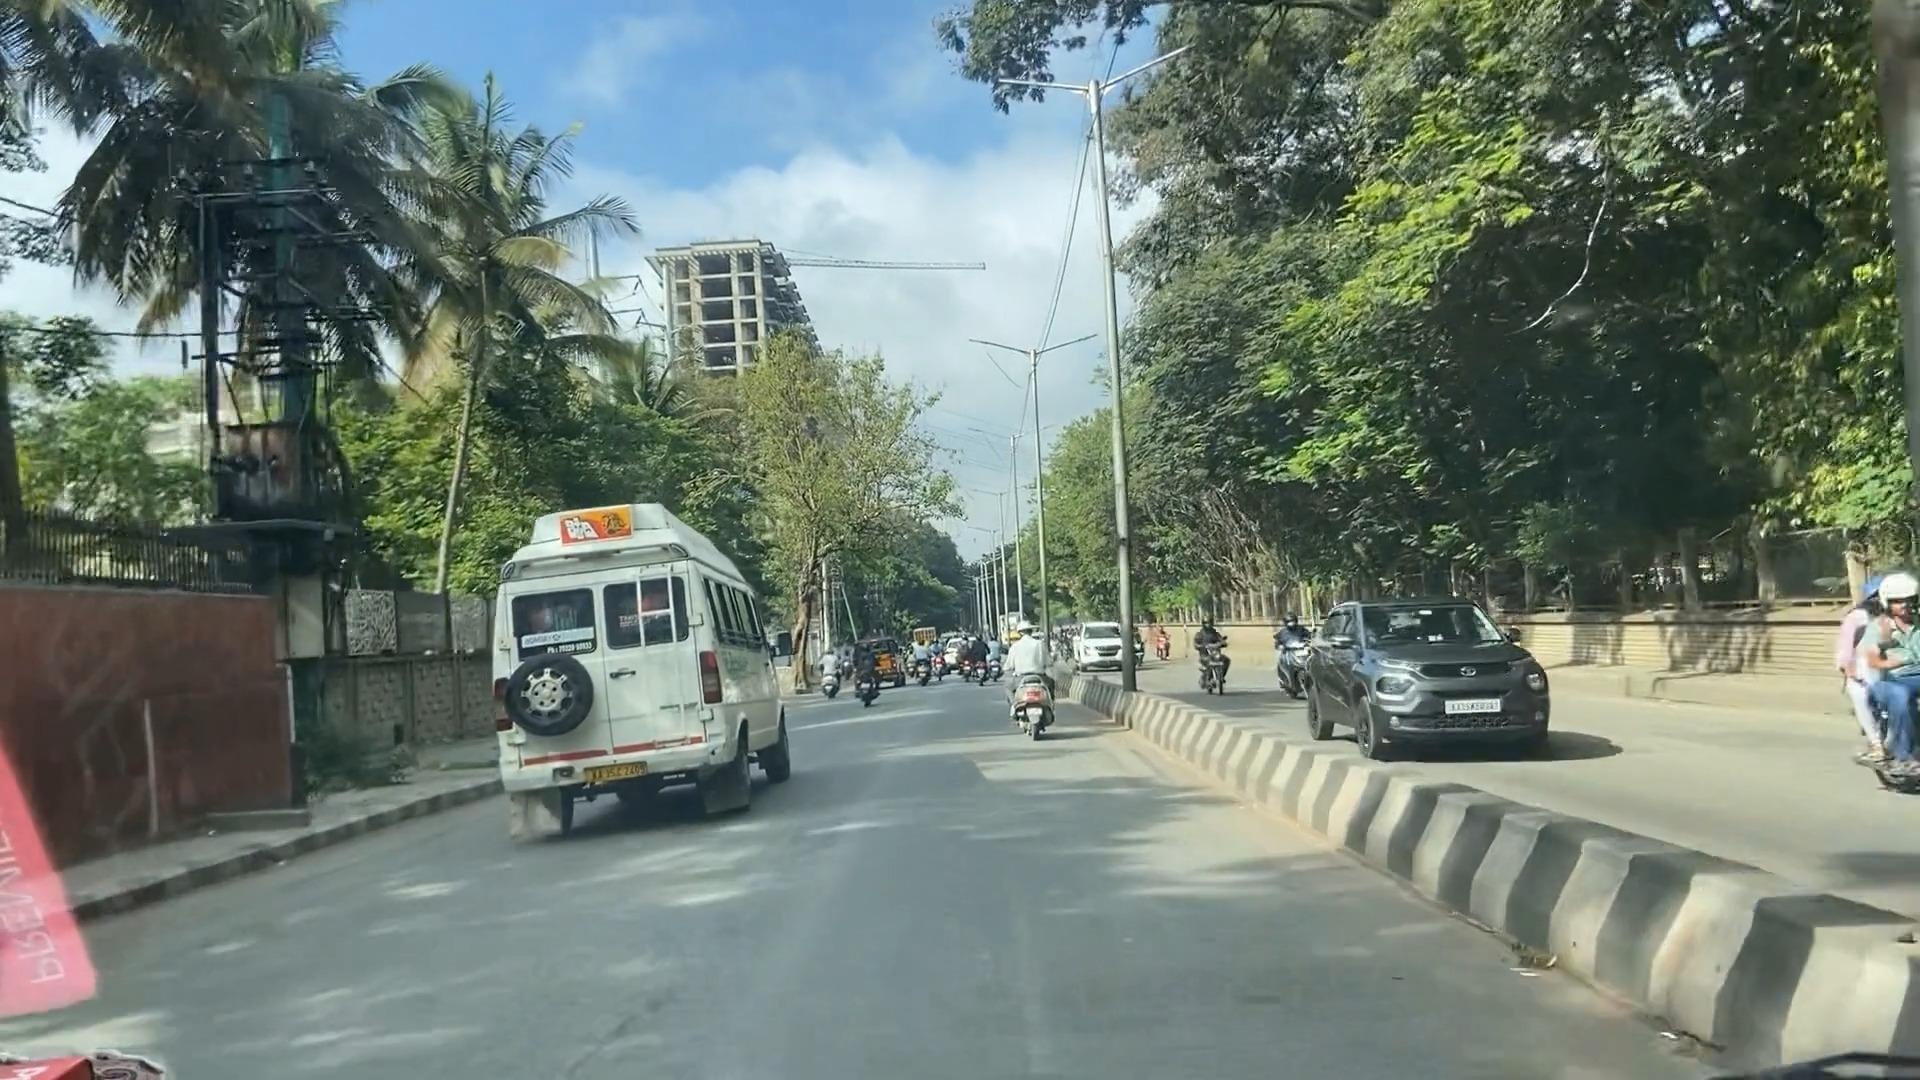HMV: (455, 501, 794, 812)
